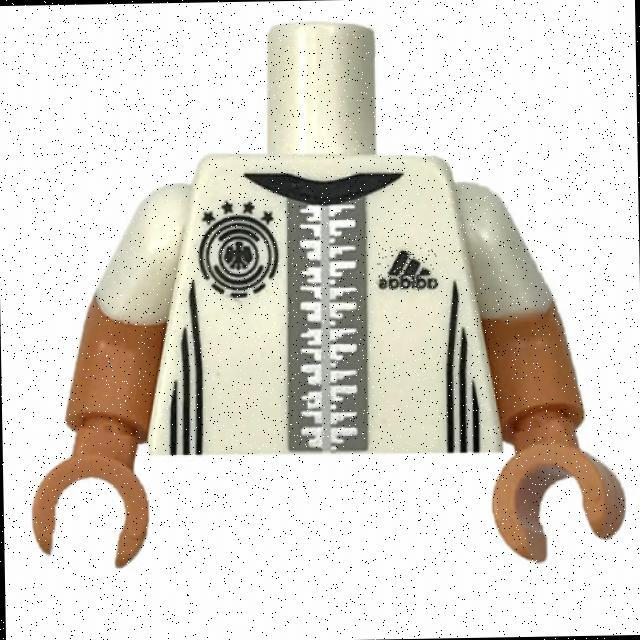Adidas: (375, 246, 438, 291)
